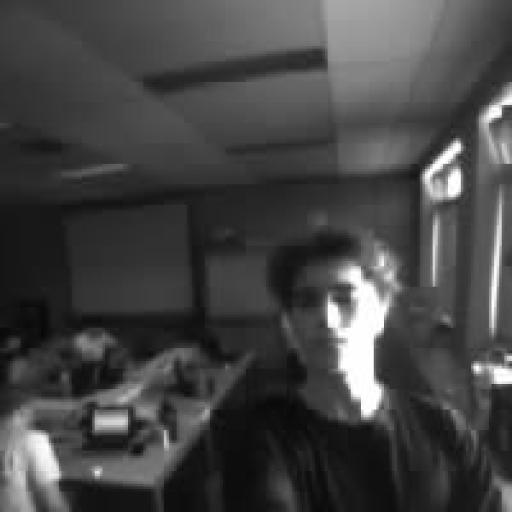human: (223, 228, 501, 511), (0, 382, 69, 511), (2, 328, 67, 394), (70, 328, 130, 396)
